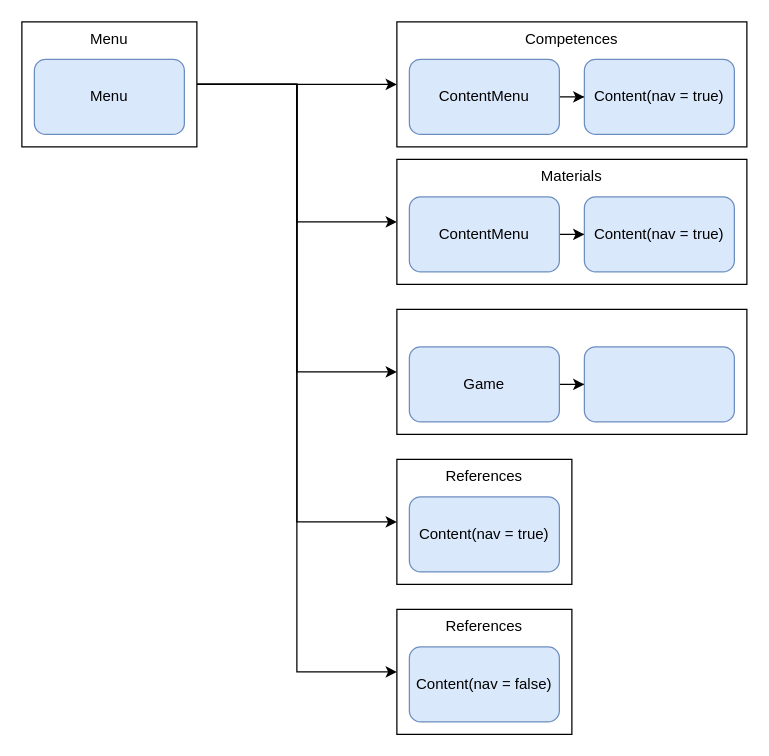
This 769x756 diagram has some shape labels left out. Each missing label, with the box of its shape:
Evaluation: (396, 308, 747, 434)
Quiz: (583, 346, 734, 422)
